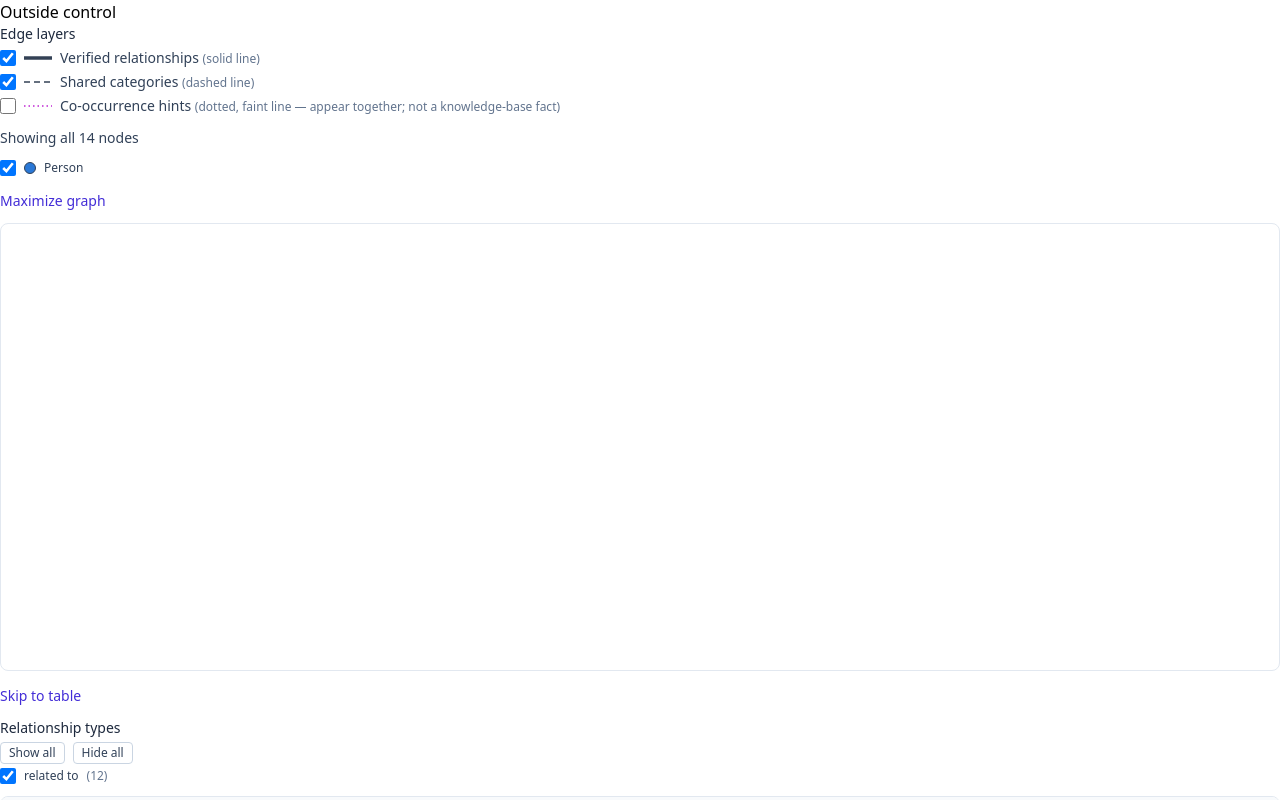
maximize: same cy instance, resize + fit › shows the node-type legend inside the maximized overlay too
The width and height of the screenshot is (1280, 800).
Click the button "Maximize graph" at x=53, y=201, box [0,191,106,211]
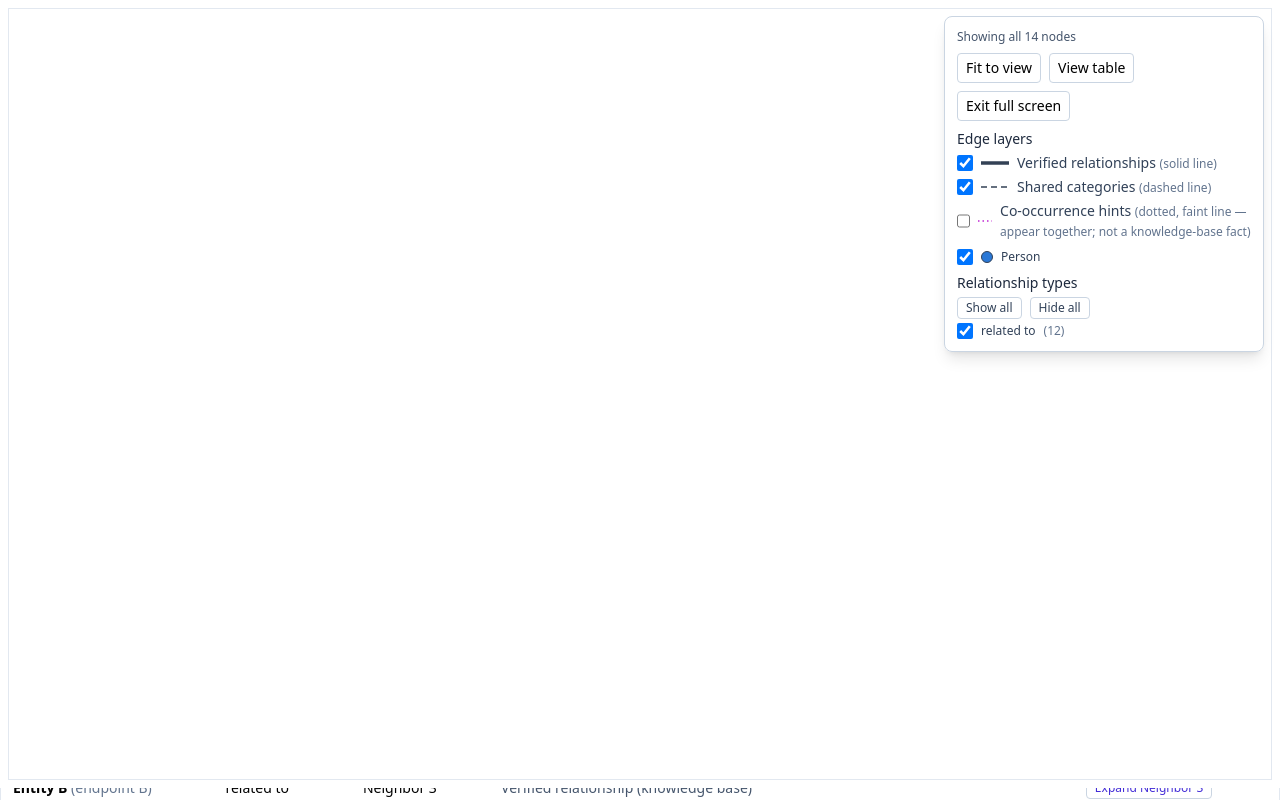
expect the list named "colour by entity type" reads "Person": met, box [1001,248,1040,265]
